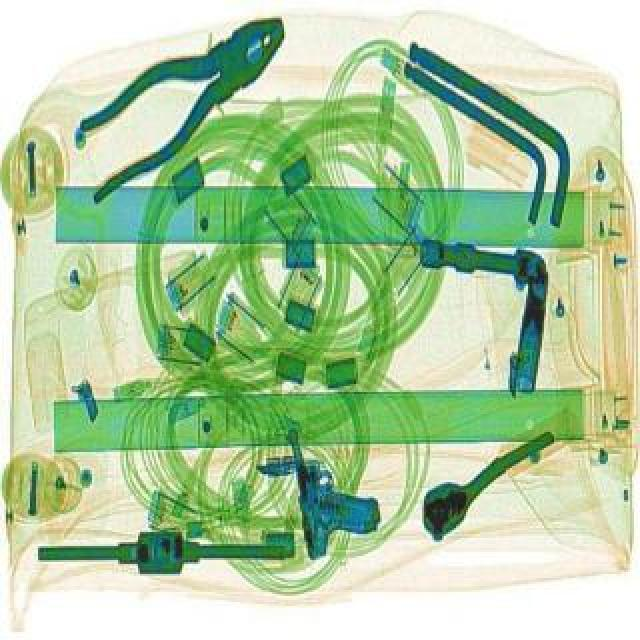gun: (284, 420, 384, 560)
wrench: (40, 0, 300, 206)
